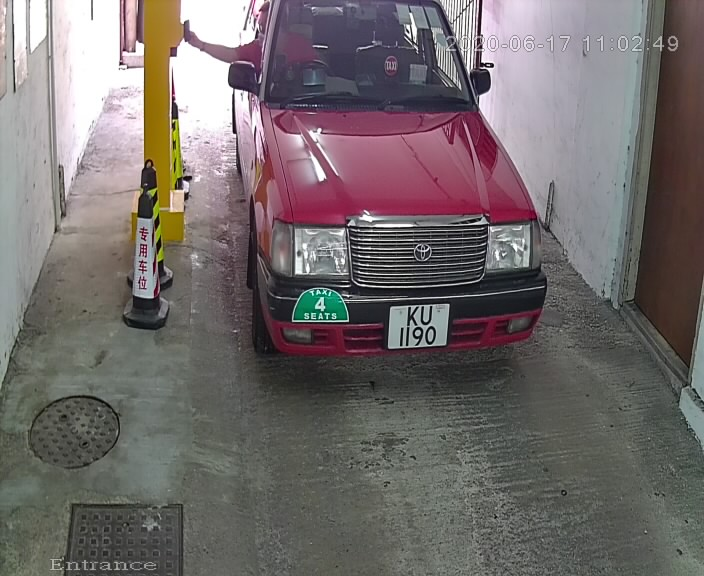taxi: (215, 2, 557, 394)
taxi_mark: (285, 285, 359, 335)
